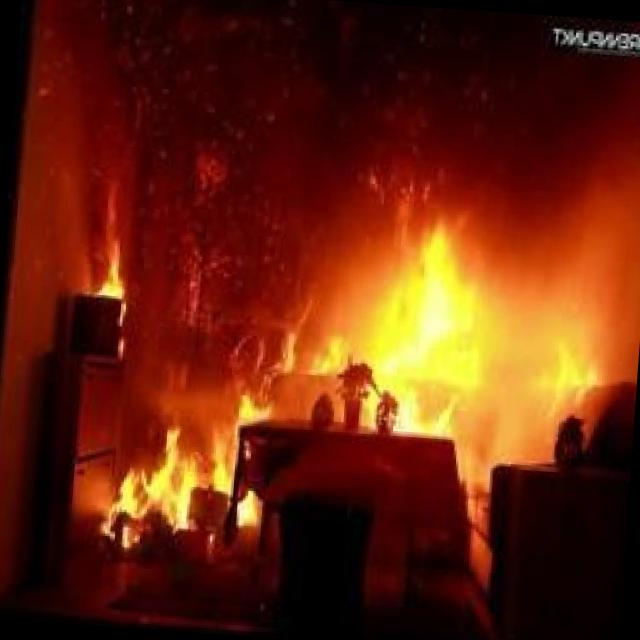fire: (37, 56, 640, 585)
